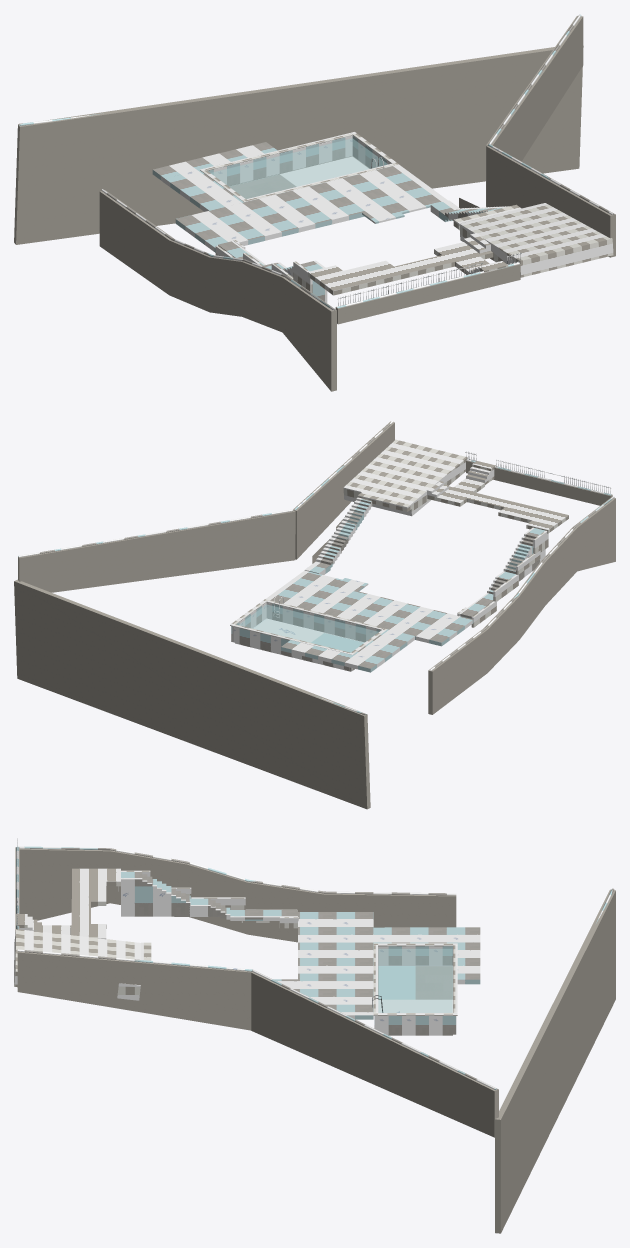
File: garden.glb
3 views of the same model, one above another, from view 1: azimuth 30°, elevation 25°; view 2: azimuth 150°, elevation 25°; view 3: azimuth 270°, elevation 25° (orthographic). The views are drawn at different scales.
Parts seen in each view (by area): view 1: garden-other-3, garden-tile-2, garden-other-1, garden-glass-4, garden-metal-0; view 2: garden-other-3, garden-tile-2, garden-other-1, garden-glass-4, garden-metal-0; view 3: garden-other-3, garden-tile-2, garden-other-1, garden-glass-4.
Part boxes in pixels (x1,y1,x2,y2): garden-other-3: (14,16,615,391); garden-tile-2: (18,14,614,310); garden-other-1: (200,132,613,295); garden-glass-4: (211,138,387,198); garden-metal-0: (337,157,521,306); garden-other-3: (14,421,615,809); garden-tile-2: (18,420,614,714); garden-other-1: (230,439,568,654); garden-glass-4: (238,604,378,652); garden-metal-0: (273,451,611,617); garden-other-3: (15,847,615,1233); garden-tile-2: (16,846,614,1089); garden-other-1: (14,868,457,1015); garden-glass-4: (378,948,452,1012).
Bounding box in the file's own units: 36.34 × 13.19 × 39.35.
Materials: 5 (5 with a texture image).
